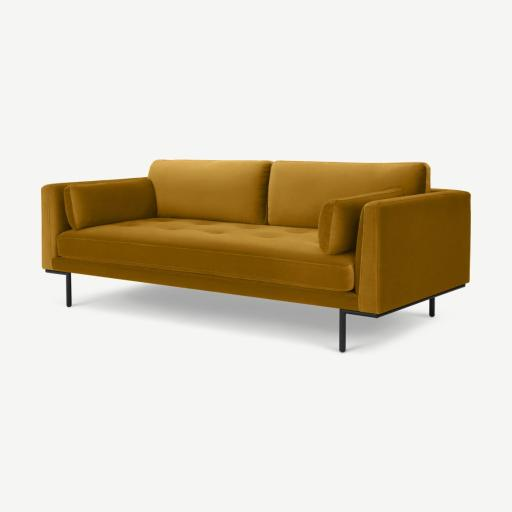back_cushion: (148, 160, 429, 229)
left_arm: (356, 190, 469, 315)
legs: (339, 310, 378, 352), (47, 270, 72, 307), (430, 298, 435, 317)
right_arm: (42, 182, 86, 270), (89, 179, 138, 185)
seat_cushion: (57, 218, 355, 301)
two-seater: (0, 0, 511, 512)
